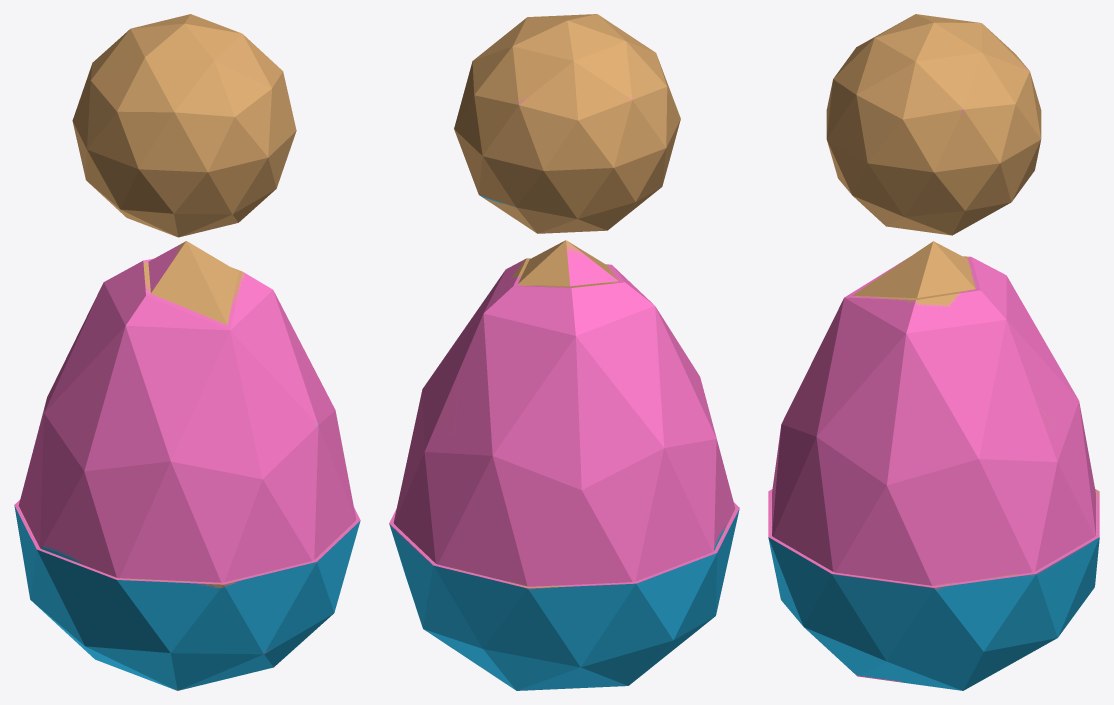
File: Peep2.fbx
3 renders of one model, left to right at view 1: azimuth 30°, elevation 25°; view 2: azimuth 150°, elevation 25°; view 3: azimuth 270°, elevation 25°, orthographic.
Parts seen in each view (by area): view 1: Person 1; view 2: Person 1; view 3: Person 1.
Boxes of the visible parts, x1,y1,x2,y2 form: Person 1: [14, 14, 360, 690]; Person 1: [389, 14, 739, 690]; Person 1: [768, 14, 1099, 690].
Bounding box in the file's own units: 45.08 × 98 × 47.4.
